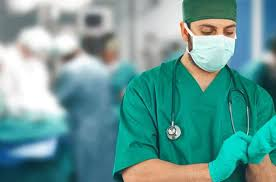mask: (191, 34, 236, 69)
